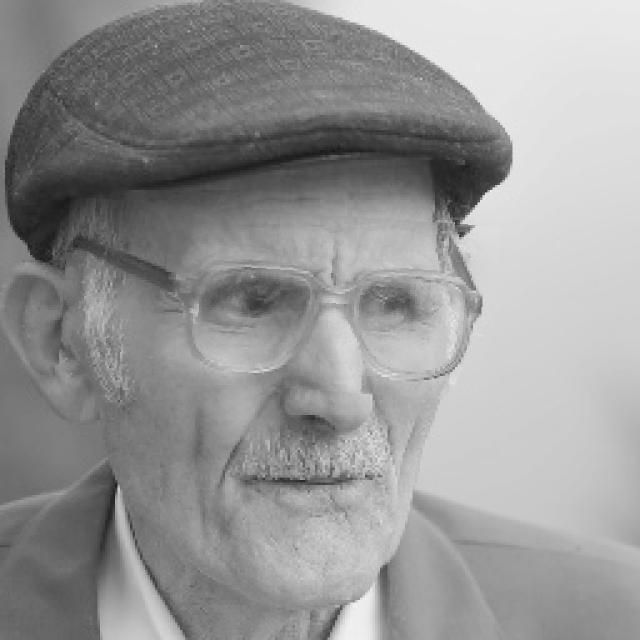glasses: (61, 205, 498, 395)
